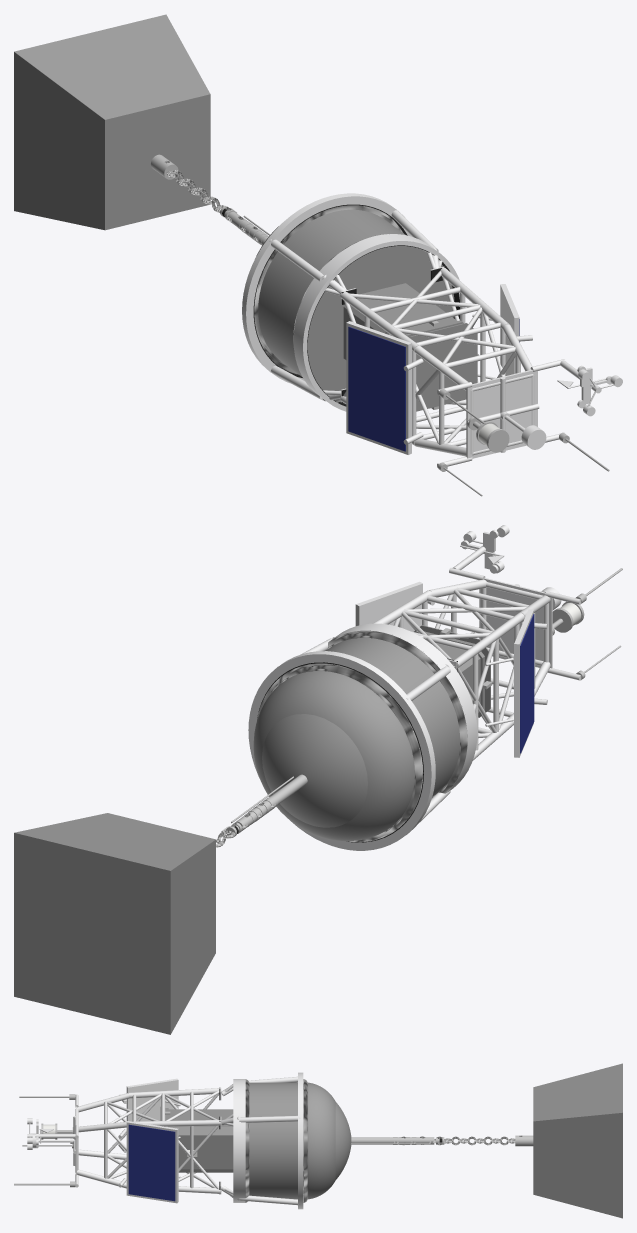
File: PROJECT FALCON -V2.fbx
3 renders of one model, top to bottom at view 1: azimuth 30°, elevation 25°; view 2: azimuth 150°, elevation 25°; view 3: azimuth 270°, elevation 25°, orthographic. The views are drawn at different scales.
Visible parts, largest first — view 1: ANCHOR_REINFORCED_CONCRETE_BODY, MAIN_FLOAT_TRADITIONAL_V2_HDPE_BODY, TOP_CAP_HDPE_BODY, DUAL_SOLAR_02_MONOCRYSTALLINE_FACE, SPLIT_CLAMP_BAND_6061, TOP_SENSOR_PLATFORM_6061, LOWER_SPLIT_COLLAR_6061, SUN_RAIN_OVERHANG_HDPE, RECT_POD_8MM_HOLLOW_WALL, DUAL_SOLAR_02_ALUMINUM_FRAME, MAIN_FLOAT_LOWER_ROUNDED_FAIRING_HDPE_BODY, DUAL_SOLAR_01_ALUMINUM_FRAME (+2 smaller); view 2: ANCHOR_REINFORCED_CONCRETE_BODY, MAIN_FLOAT_TRADITIONAL_V2_HDPE_BODY, LOWER_SPLIT_COLLAR_6061, MAIN_FLOAT_LOWER_ROUNDED_FAIRING_HDPE_BODY, SPLIT_CLAMP_BAND_6061, TOP_SENSOR_PLATFORM_6061, MAIN_FLOAT_UPPER_ROUNDED_FAIRING_HDPE_BODY, DUAL_SOLAR_02_MONOCRYSTALLINE_FACE, DUAL_SOLAR_01_ALUMINUM_FRAME, DUAL_SOLAR_02_ALUMINUM_FRAME, WIND_SENSOR_BODY, MAST_NW_LOWER_POD_LEG_6061; view 3: ANCHOR_REINFORCED_CONCRETE_BODY, MAIN_FLOAT_TRADITIONAL_V2_HDPE_BODY, DUAL_SOLAR_01_MONOCRYSTALLINE_FACE, RECT_POD_8MM_HOLLOW_WALL, SPLIT_CLAMP_BAND_6061, DUAL_SOLAR_02_ALUMINUM_FRAME, DUAL_SOLAR_01_ALUMINUM_FRAME, LOWER_SPLIT_COLLAR_6061, MAIN_FLOAT_LOWER_ROUNDED_FAIRING_HDPE_BODY, MAIN_FLOAT_UPPER_ROUNDED_FAIRING_HDPE_BODY, MAST_NW_LOWER_POD_LEG_6061, MAST_NE_LOWER_POD_LEG_6061 (+10 smaller).
Part boxes in pixels (bbox=[...]): ANCHOR_REINFORCED_CONCRETE_BODY: bbox=[14, 14, 210, 230]; MAIN_FLOAT_TRADITIONAL_V2_HDPE_BODY: bbox=[255, 209, 454, 376]; TOP_CAP_HDPE_BODY: bbox=[307, 246, 452, 403]; DUAL_SOLAR_02_MONOCRYSTALLINE_FACE: bbox=[348, 326, 405, 451]; SPLIT_CLAMP_BAND_6061: bbox=[293, 234, 459, 411]; TOP_SENSOR_PLATFORM_6061: bbox=[466, 369, 537, 458]; LOWER_SPLIT_COLLAR_6061: bbox=[242, 193, 412, 383]; SUN_RAIN_OVERHANG_HDPE: bbox=[409, 323, 477, 411]; RECT_POD_8MM_HOLLOW_WALL: bbox=[343, 283, 456, 359]; DUAL_SOLAR_02_ALUMINUM_FRAME: bbox=[346, 321, 411, 454]; MAIN_FLOAT_LOWER_ROUNDED_FAIRING_HDPE_BODY: bbox=[254, 205, 402, 374]; DUAL_SOLAR_01_ALUMINUM_FRAME: bbox=[500, 284, 519, 375]; ANCHOR_REINFORCED_CONCRETE_BODY: bbox=[14, 813, 215, 1034]; MAIN_FLOAT_TRADITIONAL_V2_HDPE_BODY: bbox=[253, 637, 460, 841]; LOWER_SPLIT_COLLAR_6061: bbox=[248, 651, 435, 850]; MAIN_FLOAT_LOWER_ROUNDED_FAIRING_HDPE_BODY: bbox=[257, 663, 423, 842]; SPLIT_CLAMP_BAND_6061: bbox=[329, 623, 477, 792]; TOP_SENSOR_PLATFORM_6061: bbox=[479, 578, 552, 668]; MAIN_FLOAT_UPPER_ROUNDED_FAIRING_HDPE_BODY: bbox=[327, 630, 467, 797]; DUAL_SOLAR_02_MONOCRYSTALLINE_FACE: bbox=[520, 614, 534, 753]; DUAL_SOLAR_01_ALUMINUM_FRAME: bbox=[355, 581, 422, 631]; DUAL_SOLAR_02_ALUMINUM_FRAME: bbox=[514, 609, 533, 757]; WIND_SENSOR_BODY: bbox=[453, 530, 498, 573]; MAST_NW_LOWER_POD_LEG_6061: bbox=[454, 612, 524, 668]; ANCHOR_REINFORCED_CONCRETE_BODY: bbox=[533, 1063, 622, 1218]; MAIN_FLOAT_TRADITIONAL_V2_HDPE_BODY: bbox=[249, 1082, 351, 1199]; DUAL_SOLAR_01_MONOCRYSTALLINE_FACE: bbox=[128, 1124, 175, 1201]; RECT_POD_8MM_HOLLOW_WALL: bbox=[168, 1109, 233, 1172]; SPLIT_CLAMP_BAND_6061: bbox=[233, 1079, 245, 1202]; DUAL_SOLAR_02_ALUMINUM_FRAME: bbox=[126, 1078, 178, 1121]; DUAL_SOLAR_01_ALUMINUM_FRAME: bbox=[126, 1121, 178, 1203]; LOWER_SPLIT_COLLAR_6061: bbox=[298, 1072, 303, 1209]; MAIN_FLOAT_LOWER_ROUNDED_FAIRING_HDPE_BODY: bbox=[303, 1079, 307, 1202]; MAIN_FLOAT_UPPER_ROUNDED_FAIRING_HDPE_BODY: bbox=[245, 1079, 249, 1202]; MAST_NW_LOWER_POD_LEG_6061: bbox=[129, 1088, 220, 1098]; MAST_NE_LOWER_POD_LEG_6061: bbox=[134, 1120, 220, 1126].
Size of the model in its own units: 760 by 760 by 3391.
